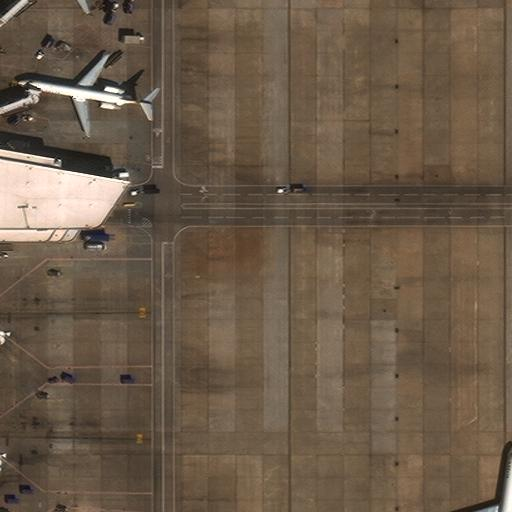Medium Civil Transport: (17, 53, 152, 136), (455, 449, 512, 512)
